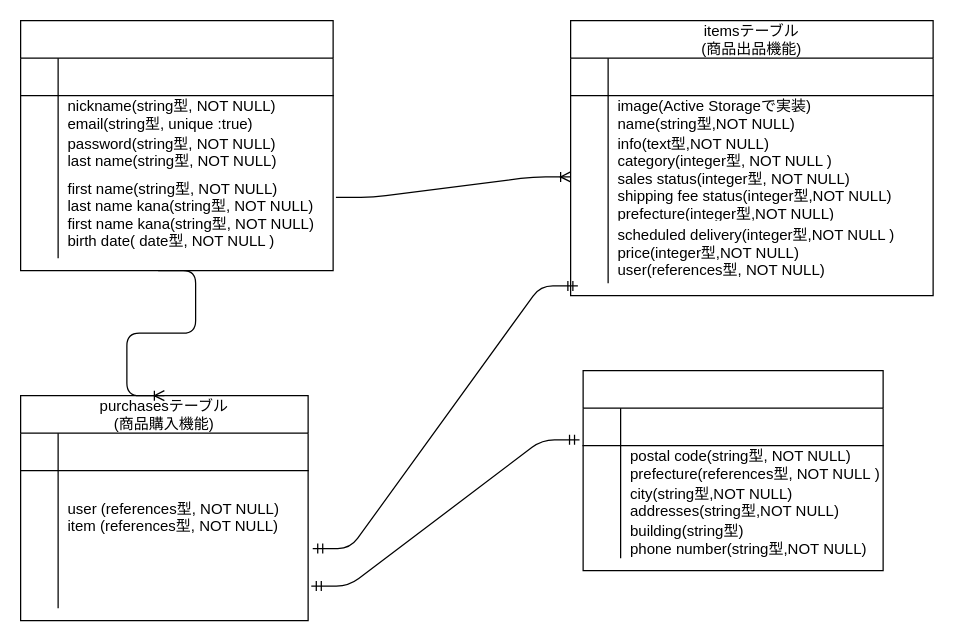
Some shapes in this 954 by 641 pixel diagram are drawn without their labels. Here are the shapes that lost their labels. From the top down, the box of each, then its label:
(19, 19, 333, 271): usersテーブル (ユーザー管理機能)
(582, 369, 883, 571): addressesテーブル (配送先住所)
